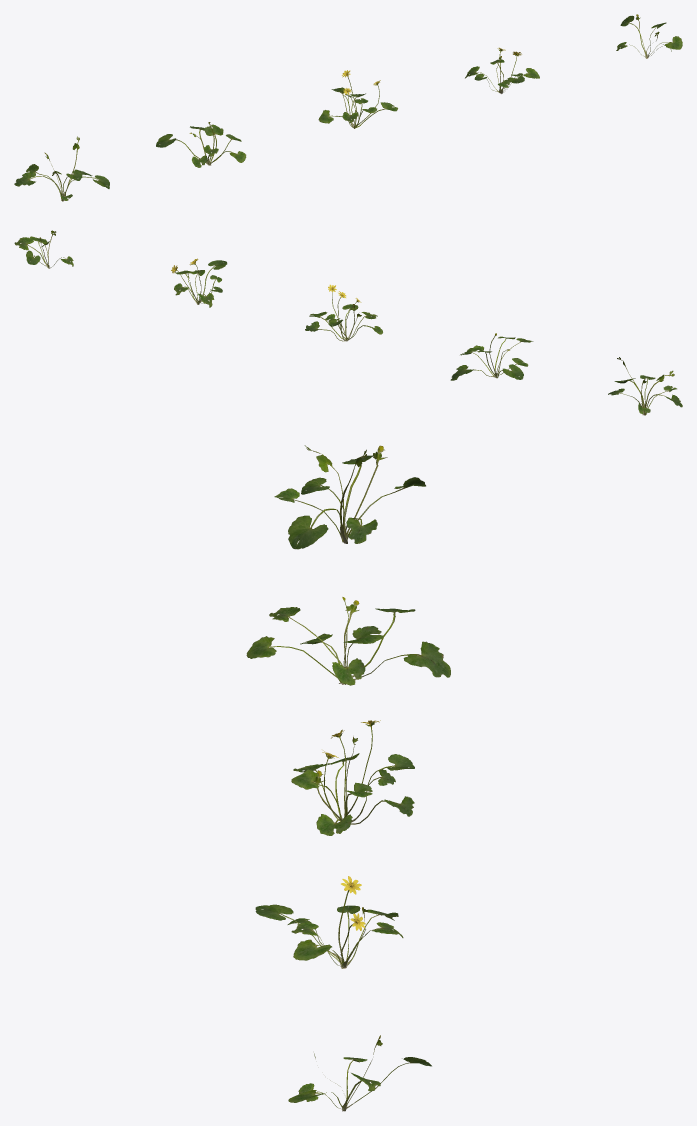
The model's file is celandine_01.glb.
The picture shows the model from 3 angles, top to bottom: view 1: azimuth 30°, elevation 25°; view 2: azimuth 150°, elevation 25°; view 3: azimuth 270°, elevation 25°; orthographic projection. The views are drawn at different scales.
Parts seen in each view (by area): view 1: celandine_01_b_LOD0, celandine_01_c_LOD0, celandine_01_a_LOD0, celandine_01_d_LOD0, celandine_01_e_LOD0; view 2: celandine_01_c_LOD0, celandine_01_b_LOD0, celandine_01_d_LOD0, celandine_01_a_LOD0, celandine_01_e_LOD0; view 3: celandine_01_b_LOD0, celandine_01_a_LOD0, celandine_01_c_LOD0, celandine_01_d_LOD0, celandine_01_e_LOD0.
Boxes of the visible parts, <box> form: celandine_01_b_LOD0: <box>156,122,246,167</box>; celandine_01_c_LOD0: <box>318,70,397,128</box>; celandine_01_a_LOD0: <box>14,136,109,201</box>; celandine_01_d_LOD0: <box>465,47,539,93</box>; celandine_01_e_LOD0: <box>616,14,682,58</box>; celandine_01_c_LOD0: <box>305,284,382,341</box>; celandine_01_b_LOD0: <box>450,333,533,380</box>; celandine_01_d_LOD0: <box>171,258,227,307</box>; celandine_01_a_LOD0: <box>608,357,682,415</box>; celandine_01_e_LOD0: <box>14,230,73,268</box>; celandine_01_b_LOD0: <box>246,597,450,685</box>; celandine_01_a_LOD0: <box>274,445,425,549</box>; celandine_01_c_LOD0: <box>291,720,414,835</box>; celandine_01_d_LOD0: <box>255,876,403,968</box>; celandine_01_e_LOD0: <box>288,1035,431,1111</box>.
Bounding box in the file's own units: 2 × 0.166 × 0.2739.
1 material, 1 textured.
